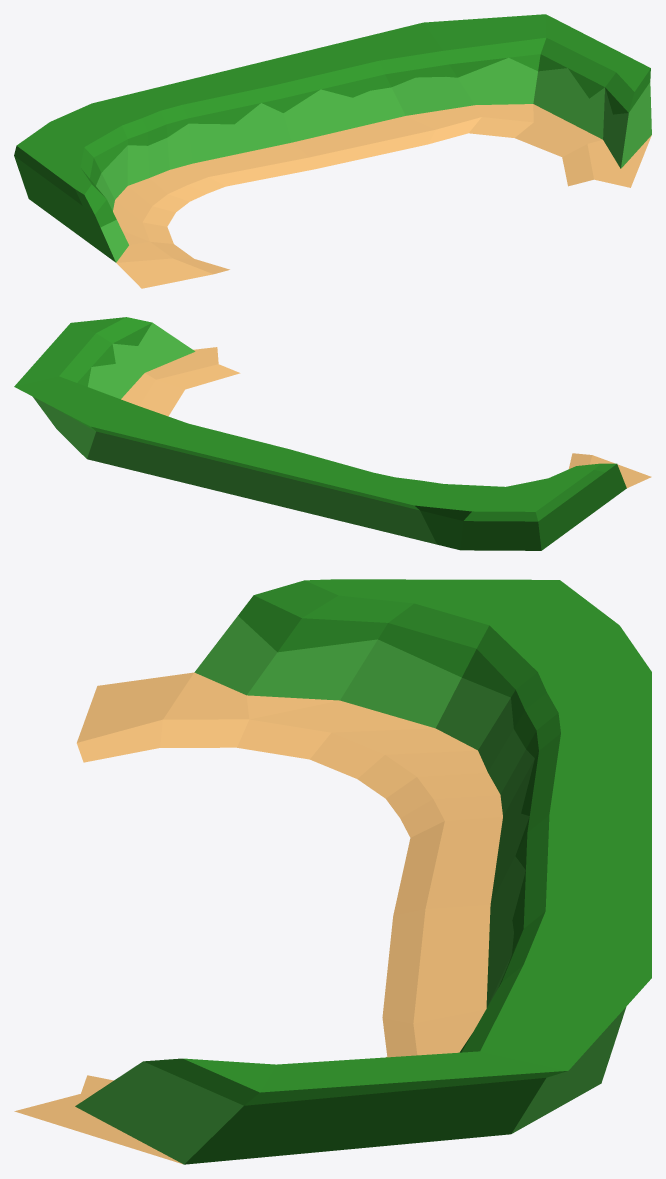
The model's file is Borde_de_Pista_Isla.fbx.
3 views of the same model, one above another, from view 1: azimuth 30°, elevation 25°; view 2: azimuth 150°, elevation 25°; view 3: azimuth 270°, elevation 25° (orthographic). The views are drawn at different scales.
Parts seen in each view (by area): view 1: Plane.001; view 2: Plane.001; view 3: Plane.001.
Boxes of the visible parts, x1,y1,x2,y2 form: Plane.001: (14, 14, 651, 288); Plane.001: (14, 317, 651, 550); Plane.001: (14, 579, 651, 1164).
Size of the model in its own units: 70588 by 6633 by 36956.
